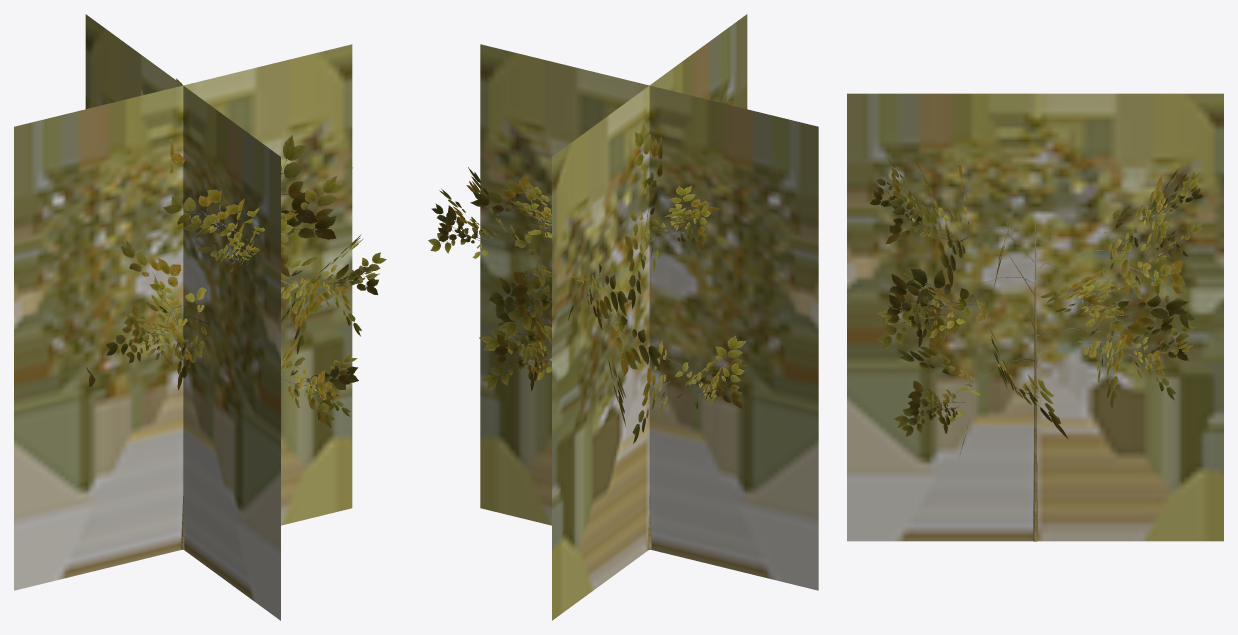
File: Shrub1-3B.fbx
The picture shows the model from 3 angles, left to right: view 1: azimuth 30°, elevation 25°; view 2: azimuth 150°, elevation 25°; view 3: azimuth 270°, elevation 25°; orthographic projection. The views are drawn at different scales.
Parts seen in each view (by area): view 1: Billboard-Shrub1-3B, Shrub1-3B_LOD0; view 2: Billboard-Shrub1-3B, Shrub1-3B_LOD0; view 3: Billboard-Shrub1-3B, Shrub1-3B_LOD0.
Boxes of the visible parts, box(x1,y1,x2,y2) form: Billboard-Shrub1-3B: box(14, 14, 352, 620); Shrub1-3B_LOD0: box(86, 78, 386, 549); Billboard-Shrub1-3B: box(480, 14, 818, 620); Shrub1-3B_LOD0: box(428, 94, 746, 549); Billboard-Shrub1-3B: box(847, 93, 1223, 541); Shrub1-3B_LOD0: box(870, 157, 1203, 541).
Size of what is drawn, in the model's own units: 233 by 289 by 220.
